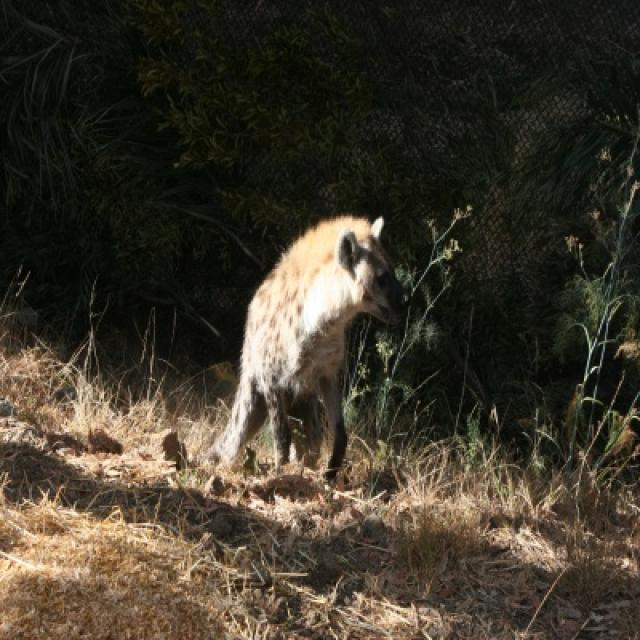hyena: (211, 216, 408, 478)
